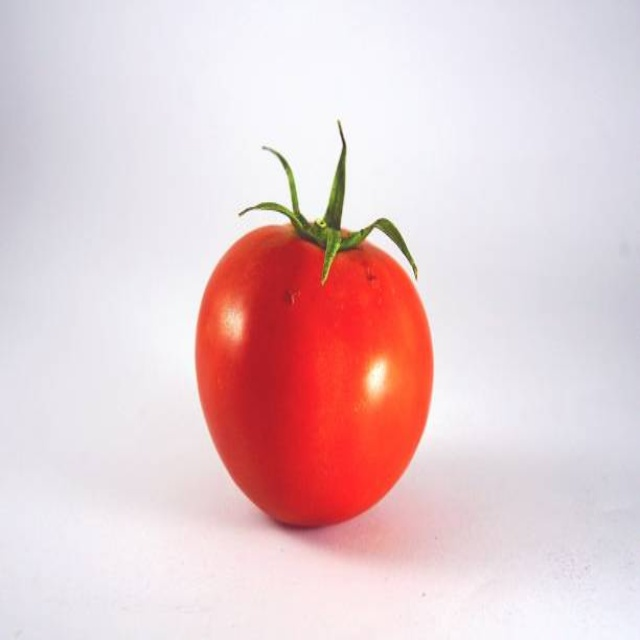tomato: (184, 201, 449, 537)
